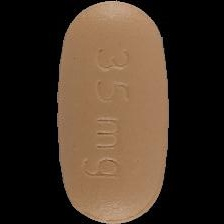0430-0472: (0, 0, 224, 224)
